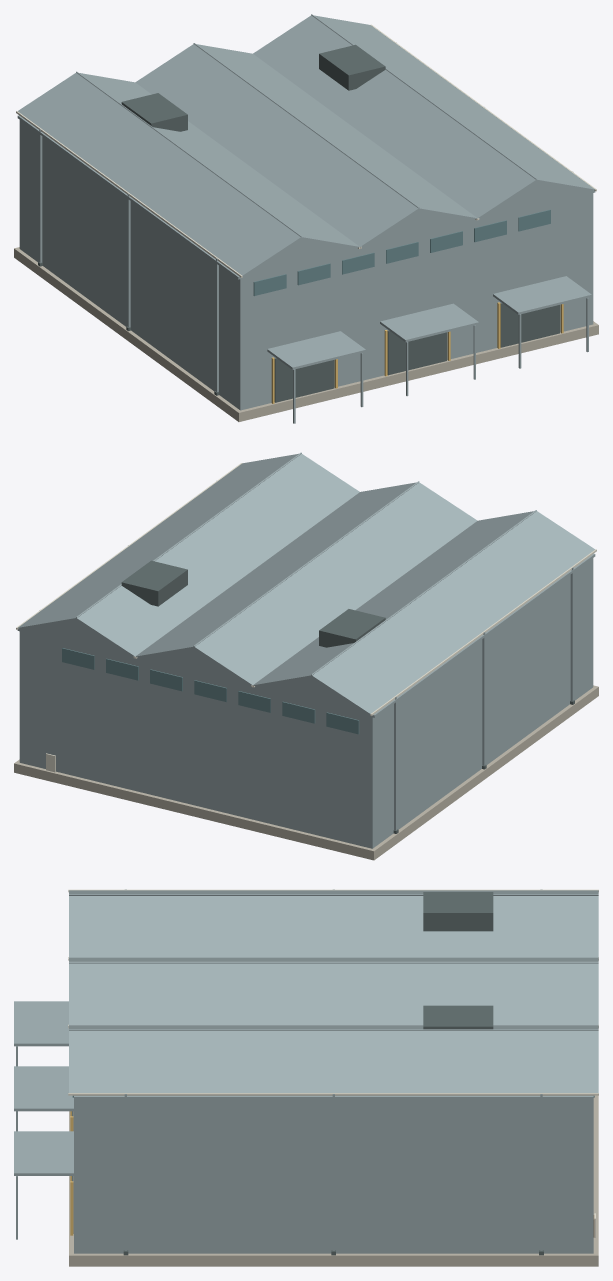
3 views of the same model, one above another, from view 1: azimuth 30°, elevation 25°; view 2: azimuth 150°, elevation 25°; view 3: azimuth 270°, elevation 25° (orthographic). The views are drawn at different scales.
Bounding box in the file's own units: 49 × 22.5 × 58.55.
